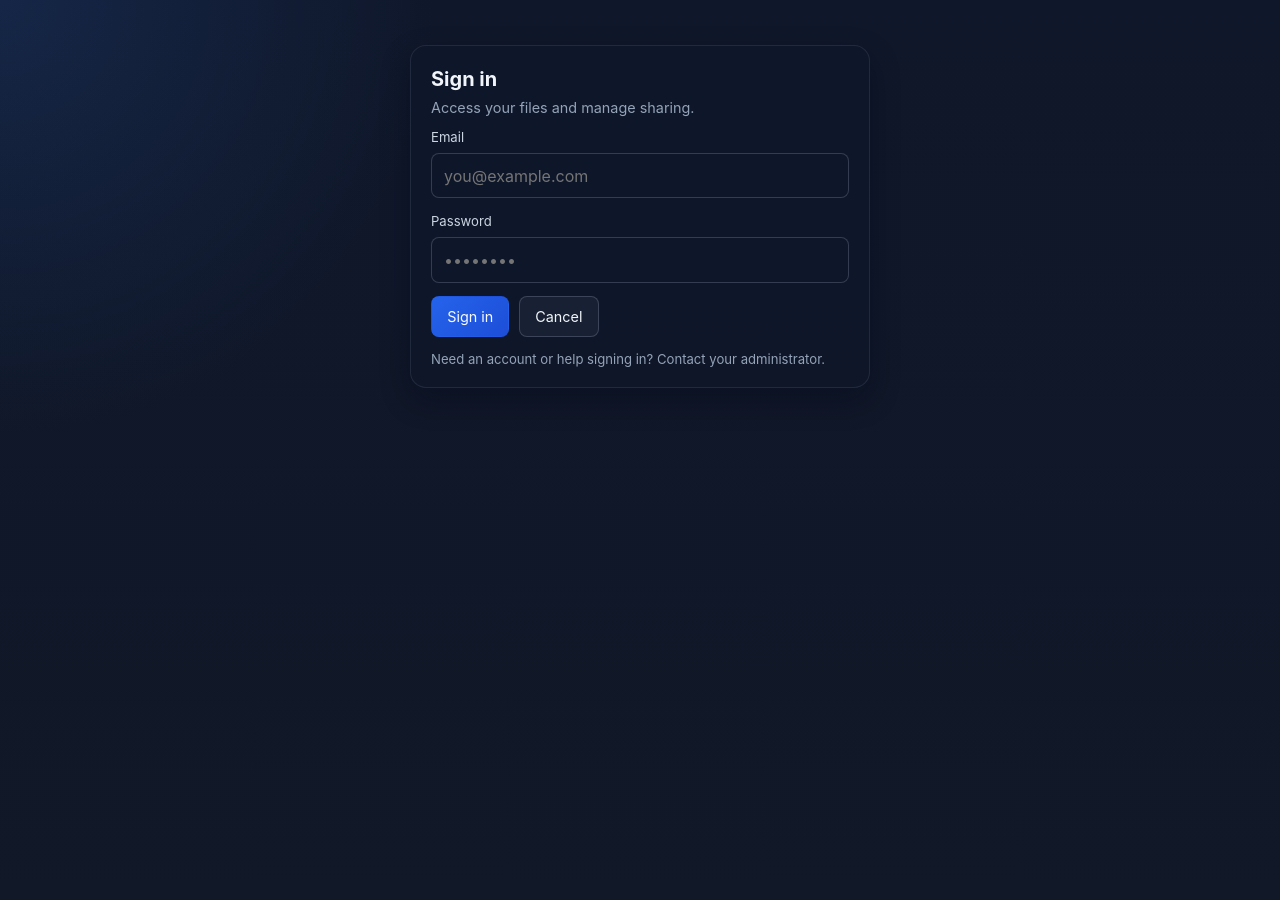
it: LoginPage › surfaces server error on bad credentials
Step 1. Type "admin@example.local" into the field labelled "Email" → (640, 176), box [431,153,849,198]
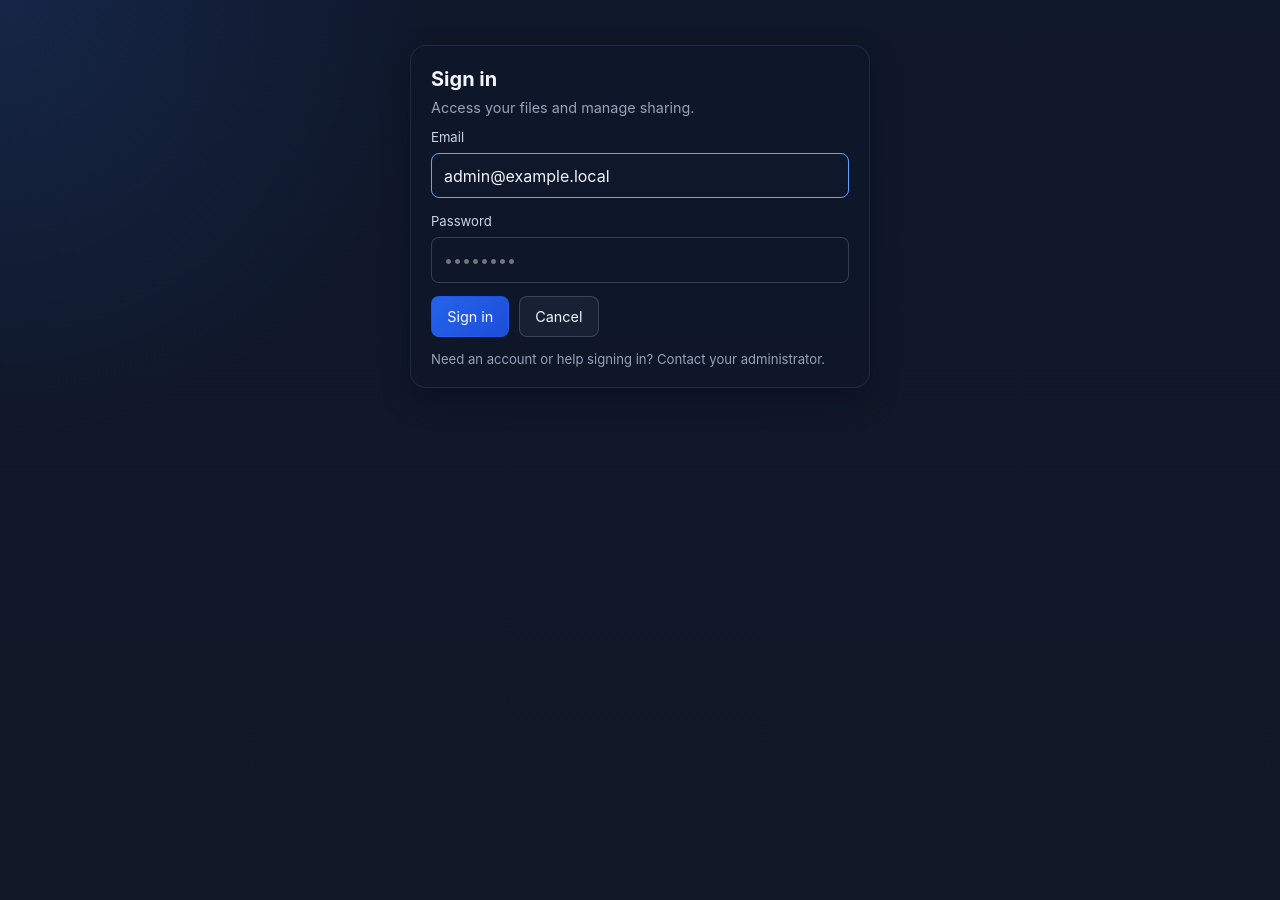
Step 2. Type "wrong" into the password field labelled "Password" → (640, 260), box [431,237,849,282]
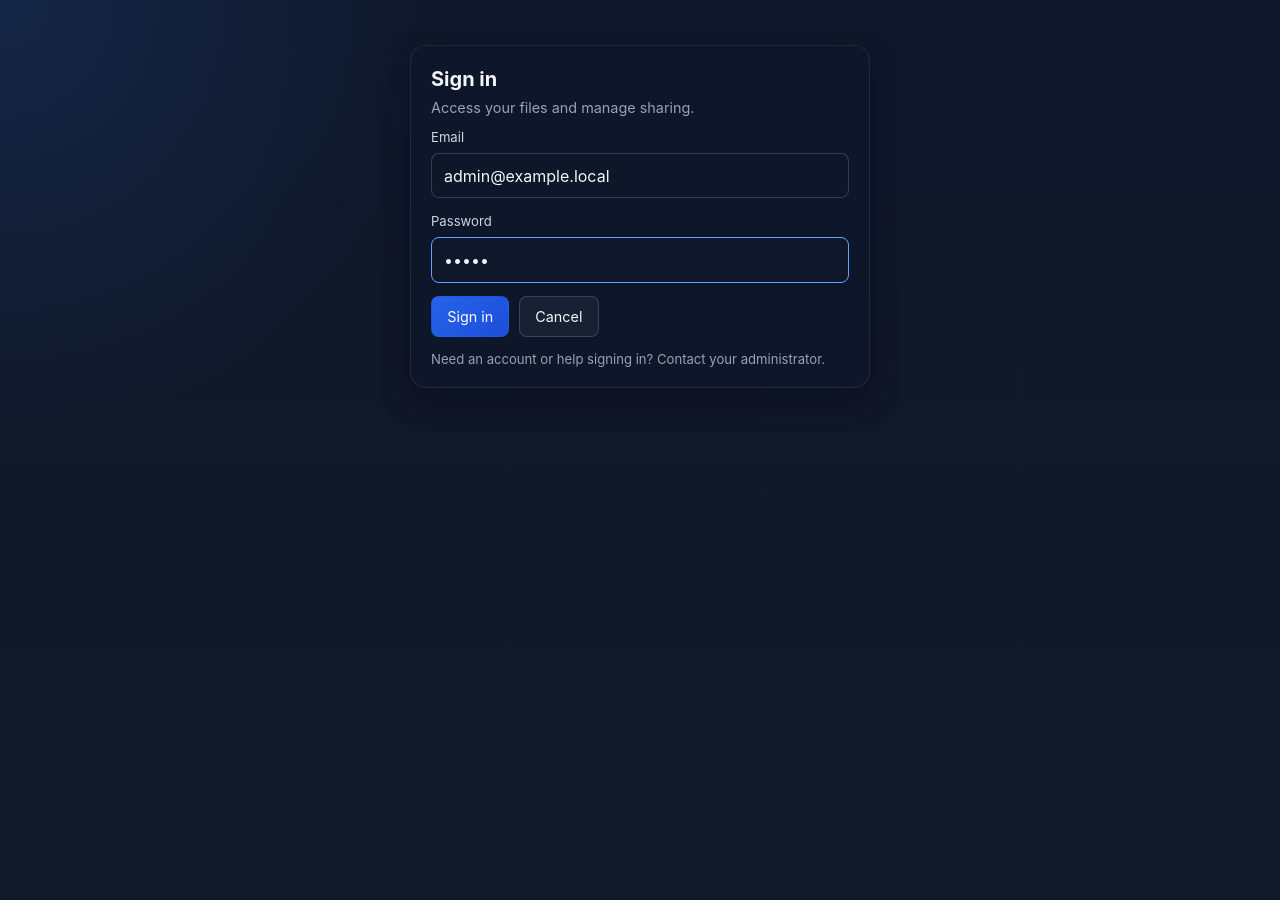
Step 3. Click the button "Sign in" → (470, 317), box [431,296,510,337]
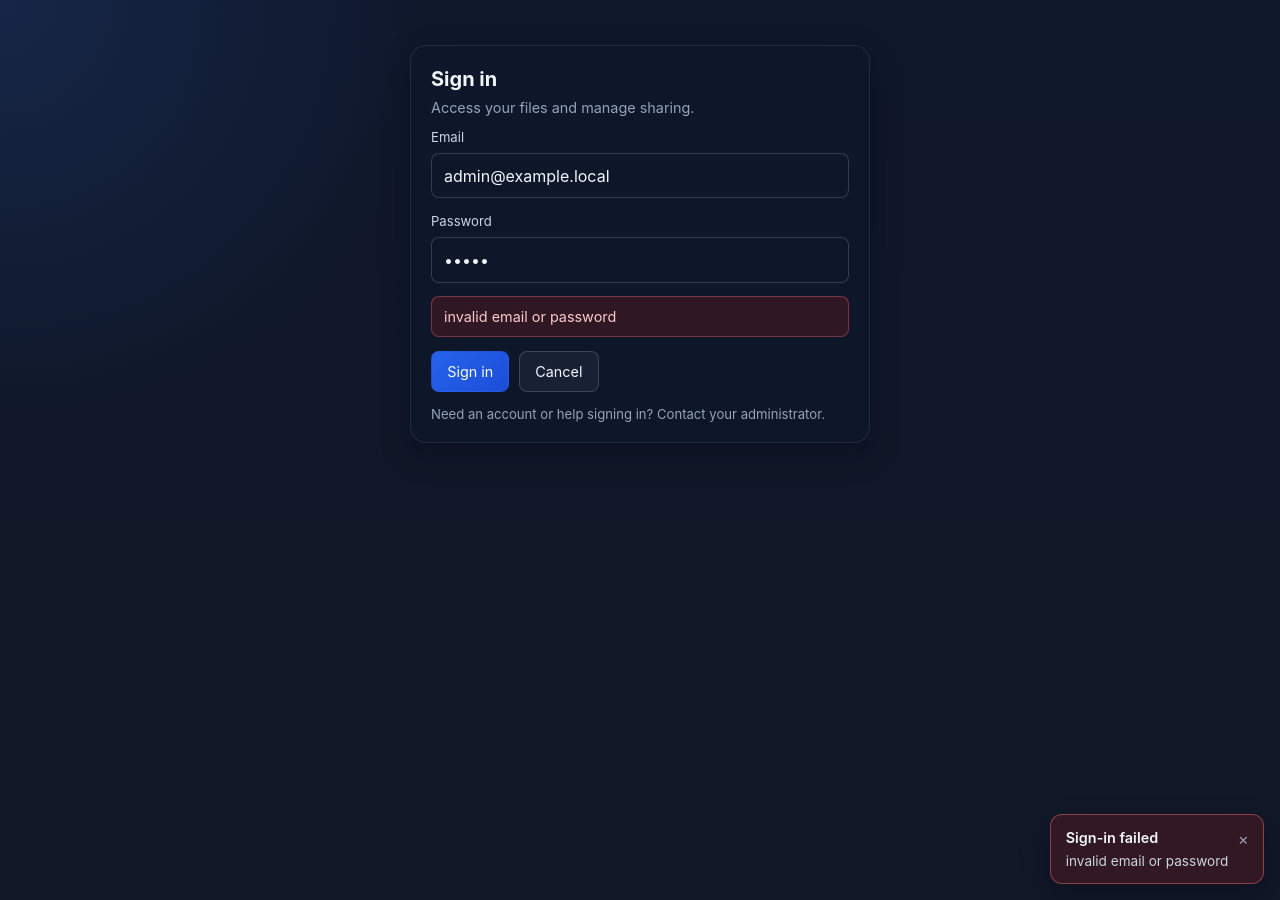
Result: the message "invalid email or password" is shown at [431,296,849,337]
